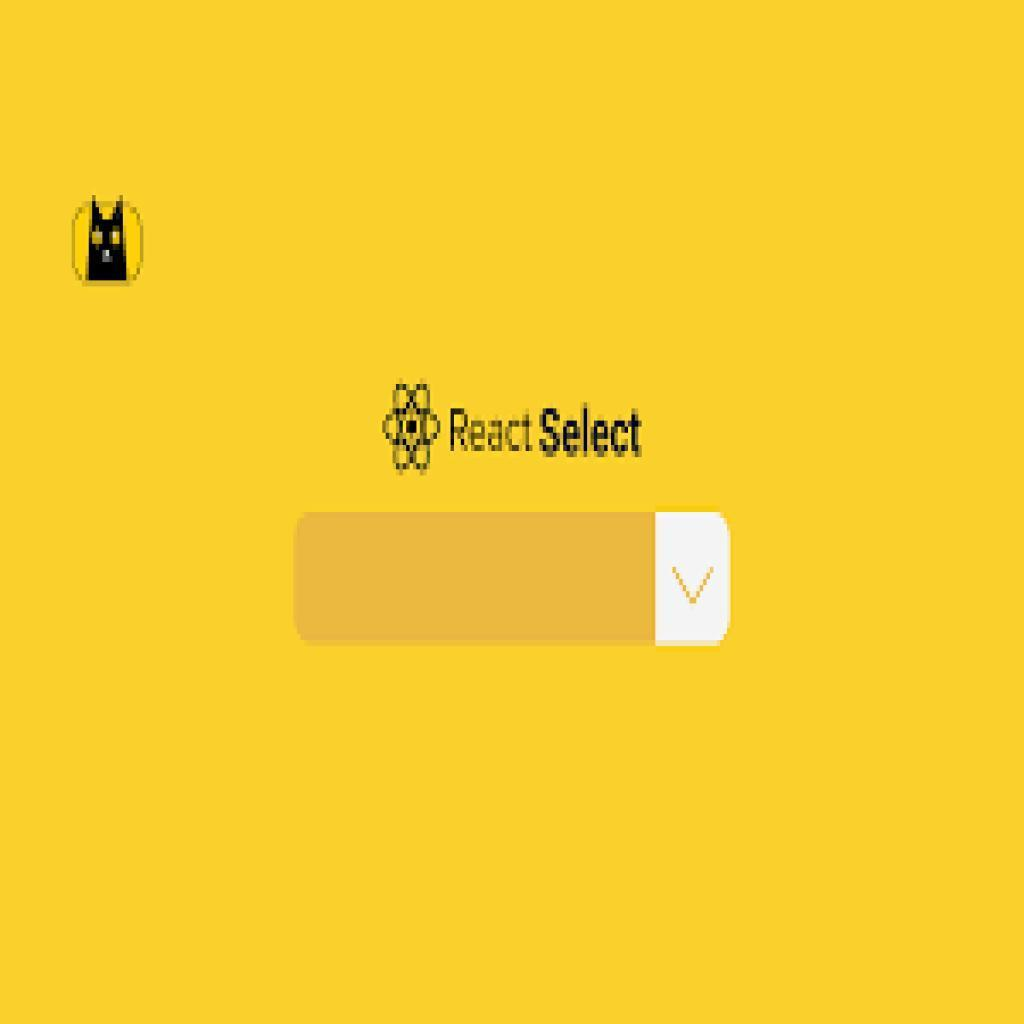dropdown: (298, 511, 726, 646)
icon: (379, 366, 447, 480), (68, 198, 155, 285)
